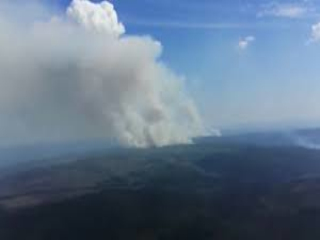smoke: (96, 44, 220, 145)
